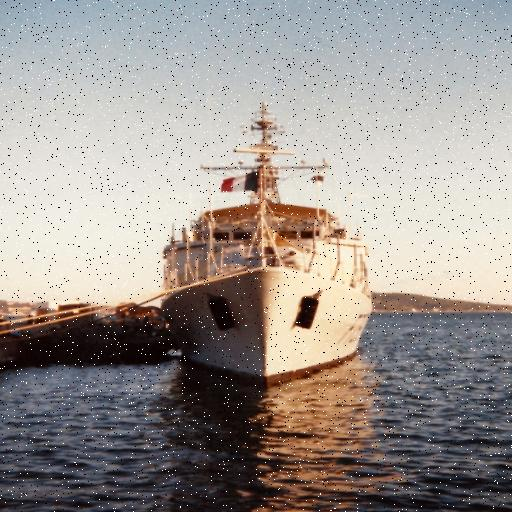Fragata: (149, 72, 373, 390)
